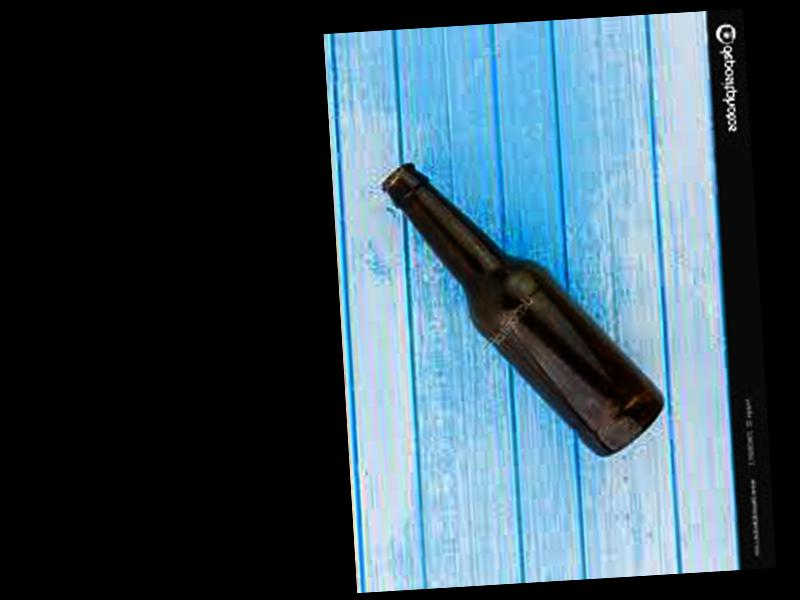Beer: (380, 151, 671, 469)
